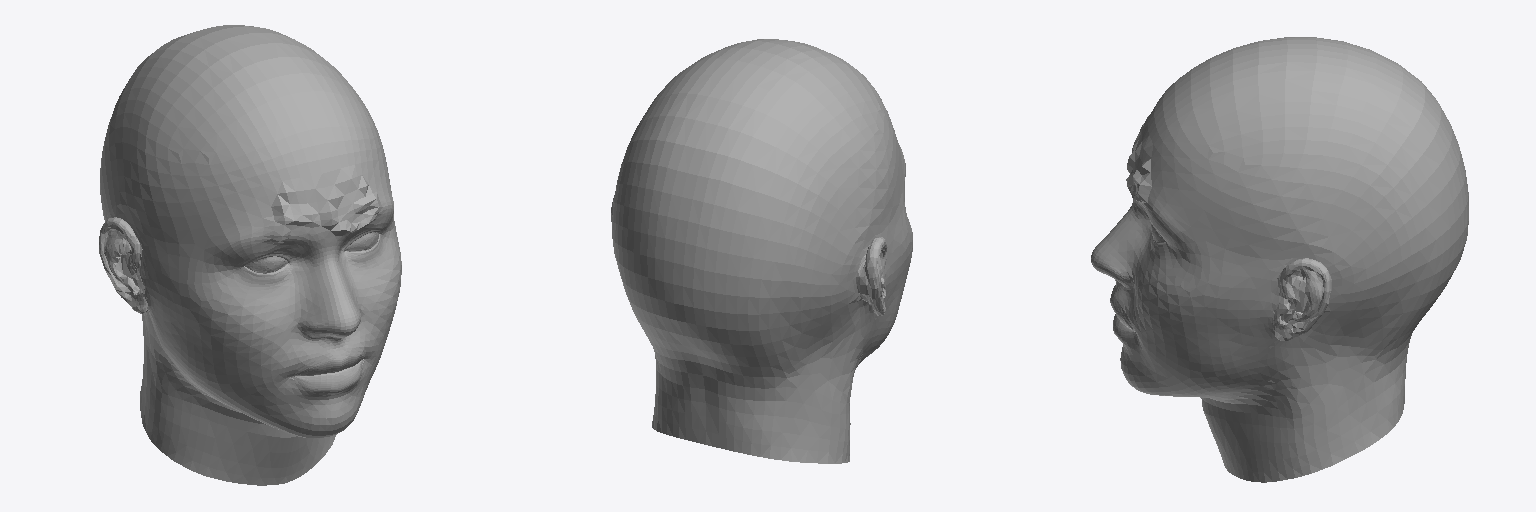
Rendered from White Girl Face3.obj.
The picture shows the model from 3 angles: view 1: azimuth 30°, elevation 25°; view 2: azimuth 150°, elevation 25°; view 3: azimuth 270°, elevation 25°; orthographic projection.
Parts seen in each view (by area): view 1: HeadHires; view 2: HeadHires; view 3: HeadHires.
Part boxes in pixels (x1,y1,x2,y2): HeadHires: (99,25,401,485); HeadHires: (611,39,912,463); HeadHires: (1091,37,1468,482).
Bounding box in the file's own units: 191 × 283 × 235.